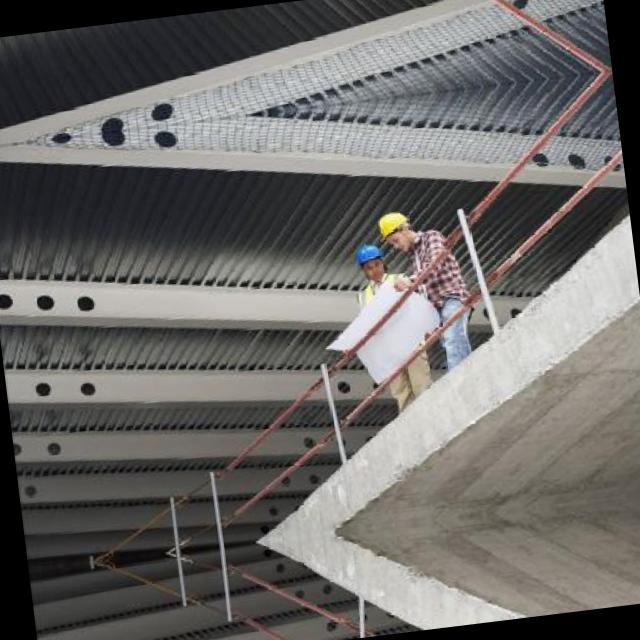helmet: (374, 207, 416, 250), (352, 242, 388, 280)
